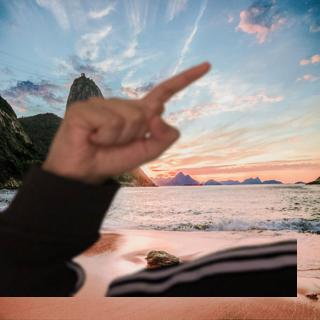WHY: (40, 54, 215, 180)
